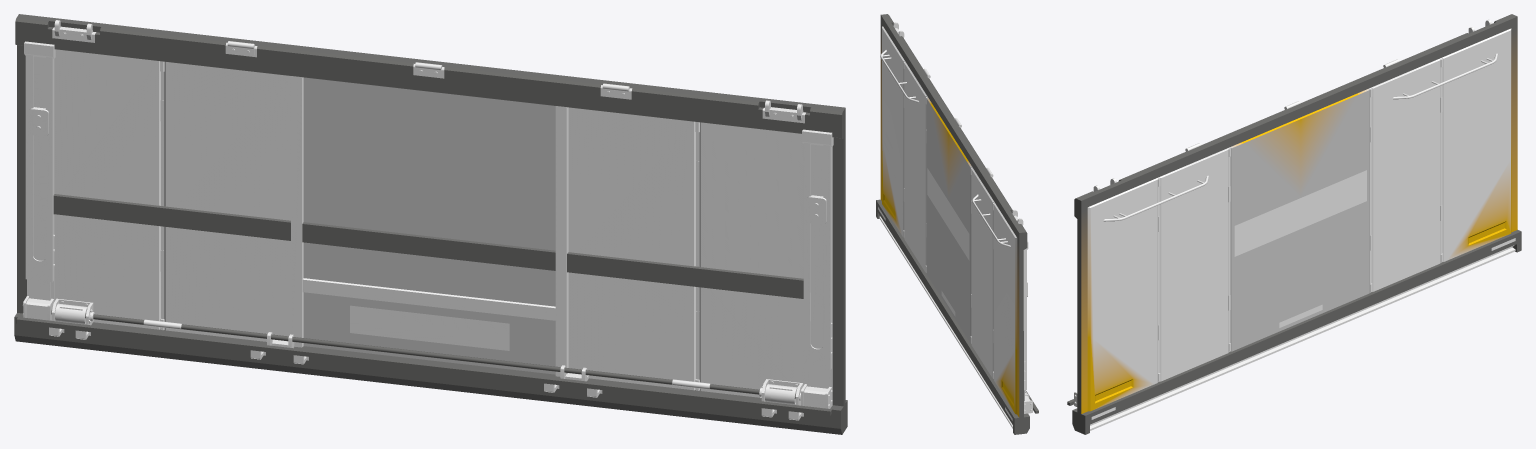
File: cell_163_106.fbx
The picture shows the model from 3 angles, left to right: view 1: azimuth 30°, elevation 25°; view 2: azimuth 150°, elevation 25°; view 3: azimuth 270°, elevation 25°; orthographic projection. The views are drawn at different scales.
Parts seen in each view (by area): view 1: SM_H_Customiz_FoldDoor_01B.mo.003; view 2: SM_H_Customiz_FoldDoor_01B.mo.003; view 3: SM_H_Customiz_FoldDoor_01B.mo.003.
Boxes of the visible parts, x1,y1,x2,y2 form: SM_H_Customiz_FoldDoor_01B.mo.003: (14, 14, 847, 434); SM_H_Customiz_FoldDoor_01B.mo.003: (876, 14, 1038, 434); SM_H_Customiz_FoldDoor_01B.mo.003: (1067, 14, 1521, 434).
Size of the model in its own units: 9.64 by 5.5 by 9.64.
